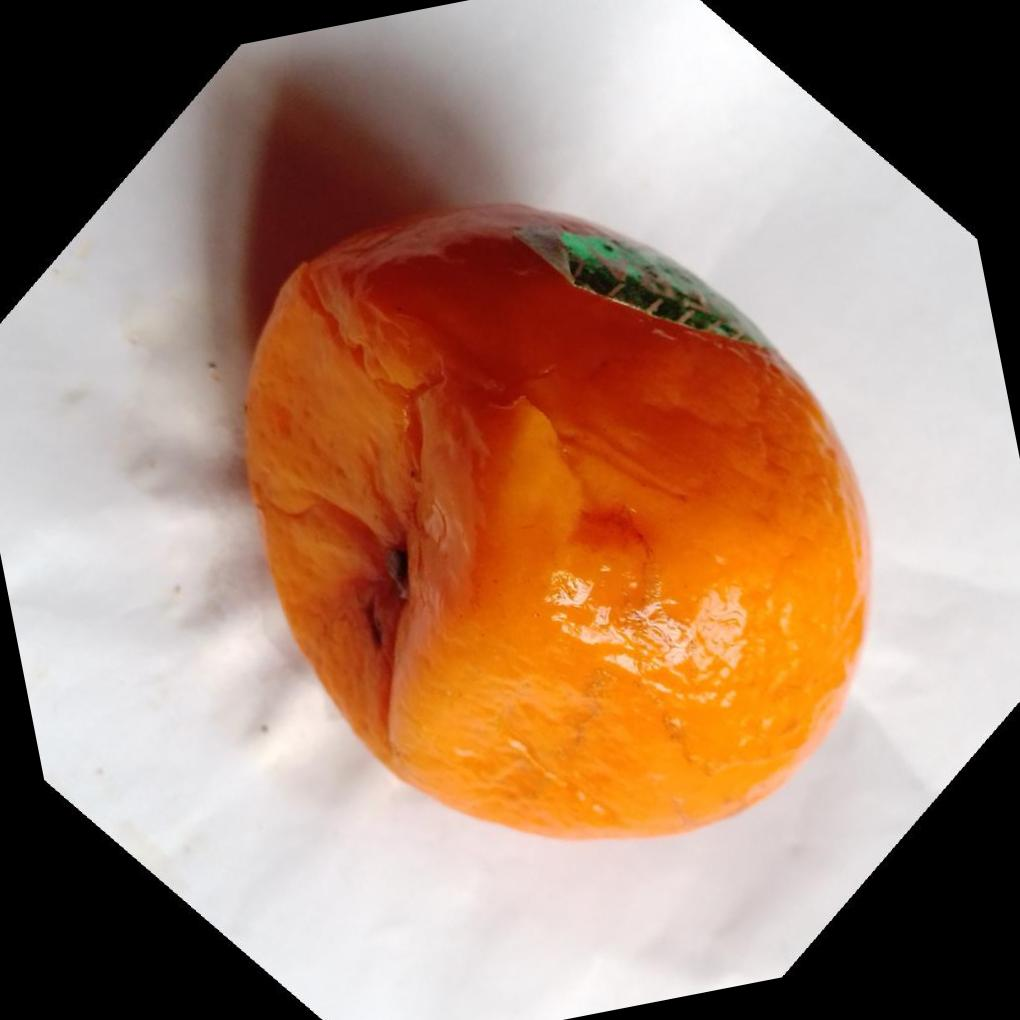FreshOrange: (238, 198, 873, 839)
